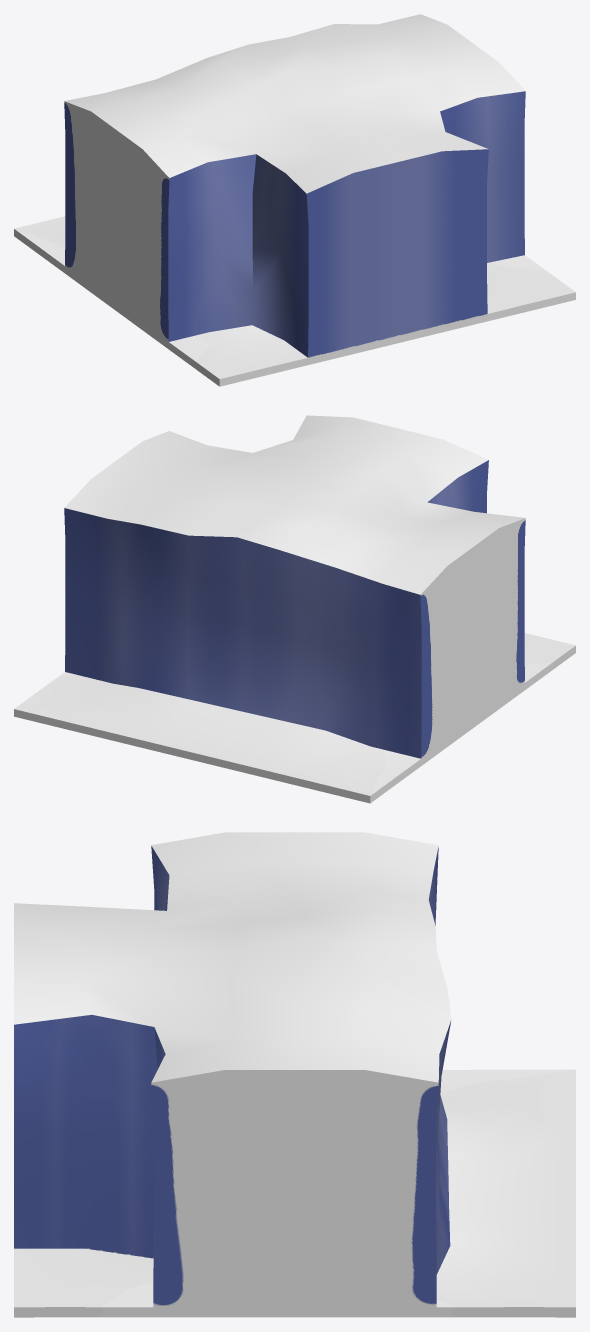
File: wall_slim_join3_1.glb
3 views of the same model, one above another, from view 1: azimuth 30°, elevation 25°; view 2: azimuth 150°, elevation 25°; view 3: azimuth 270°, elevation 25° (orthographic). The views are drawn at different scales.
Parts seen in each view (by area): view 1: wall_slim_join3_1.001; view 2: wall_slim_join3_1.001; view 3: wall_slim_join3_1.001.
Boxes of the visible parts, bbox=[...] form: wall_slim_join3_1.001: bbox=[14, 14, 575, 386]; wall_slim_join3_1.001: bbox=[14, 415, 575, 803]; wall_slim_join3_1.001: bbox=[14, 832, 575, 1317].
Size of the model in its own units: 2 by 1.04 by 2.
Materials: 1 (1 with a texture image).
